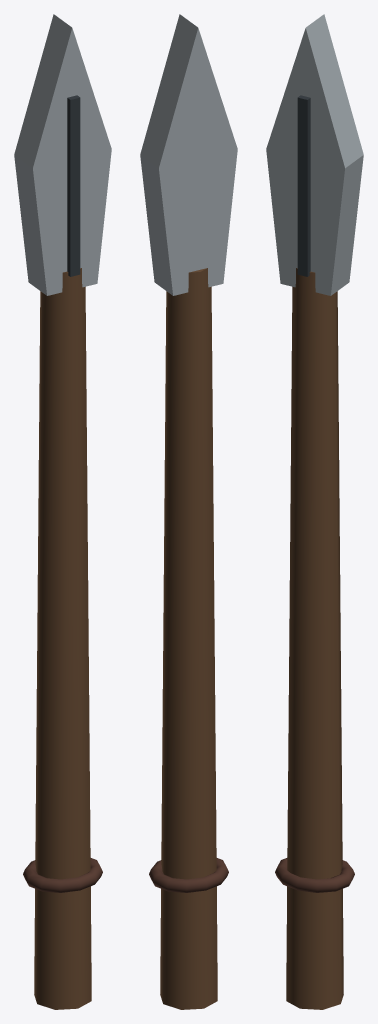
The model's file is spear.glb.
3 renders of one model, left to right at view 1: azimuth 30°, elevation 25°; view 2: azimuth 210°, elevation 25°; view 3: azimuth 330°, elevation 25°, orthographic.
Visible parts, largest first — view 1: spear-shaft, spear-head, spear-head-fuller, spear-grip-ring; view 2: spear-shaft, spear-head, spear-grip-ring; view 3: spear-shaft, spear-head, spear-head-fuller, spear-grip-ring.
Boxes of the visible parts, left/top/right/bottom form: spear-shaft: left=34, top=268, right=91, bottom=1009; spear-head: left=14, top=14, right=111, bottom=295; spear-head-fuller: left=67, top=95, right=80, bottom=276; spear-grip-ring: left=23, top=858, right=102, bottom=892; spear-shaft: left=160, top=268, right=217, bottom=1009; spear-head: left=140, top=14, right=237, bottom=295; spear-grip-ring: left=149, top=858, right=228, bottom=892; spear-shaft: left=286, top=268, right=343, bottom=1009; spear-head: left=266, top=14, right=363, bottom=295; spear-head-fuller: left=297, top=95, right=310, bottom=276; spear-grip-ring: left=275, top=858, right=354, bottom=892.
Bounding box in the file's own units: 0.11 × 1.3 × 0.0872.
